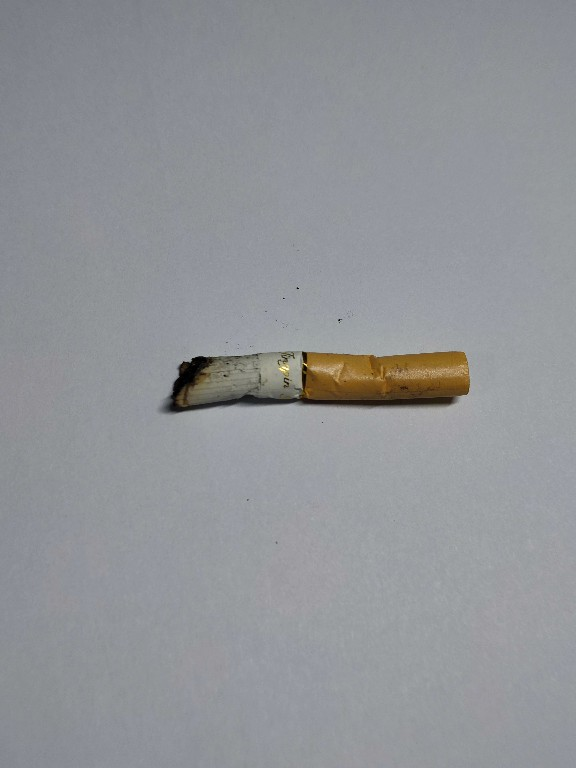cigarette: (159, 331, 477, 434)
